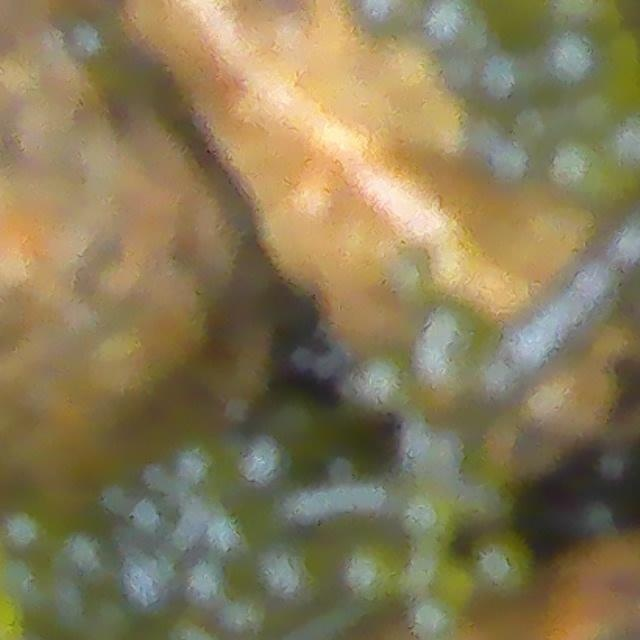SeaGrape: (543, 28, 601, 86), (423, 0, 481, 56), (476, 538, 523, 588), (403, 491, 453, 538), (348, 549, 396, 595)
